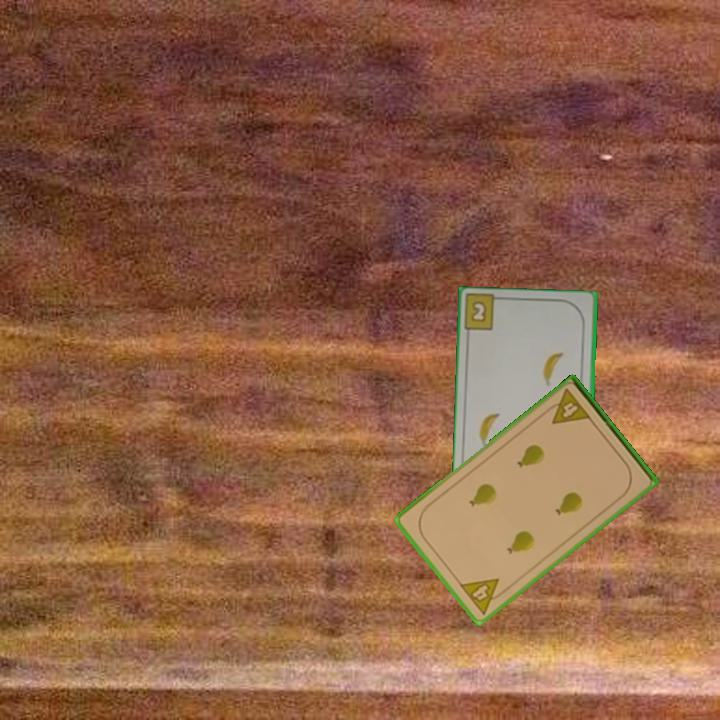2b: (468, 297, 489, 325)
4p: (456, 575, 510, 618), (541, 385, 594, 428)
